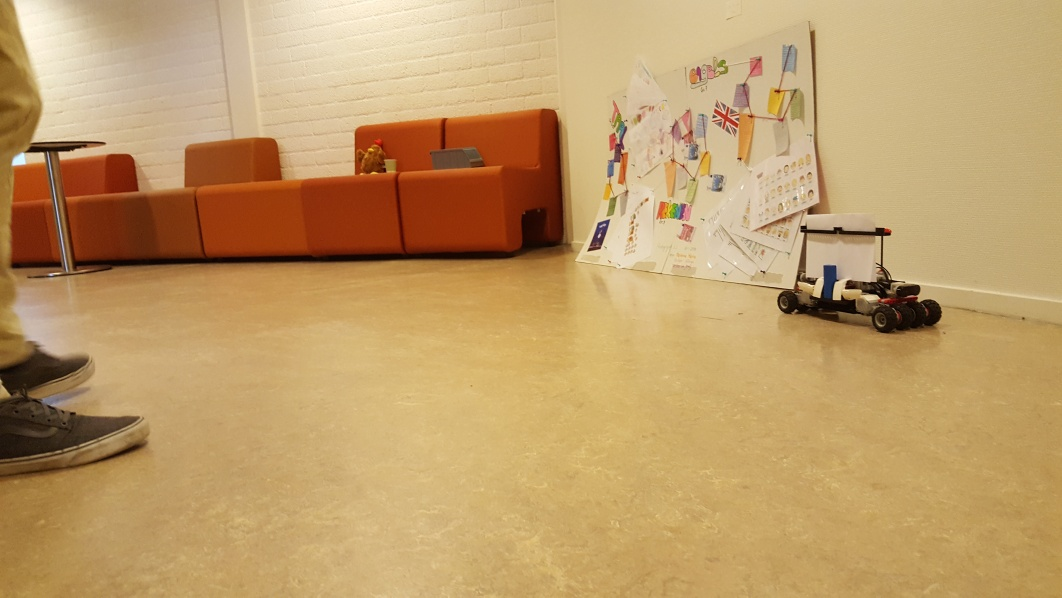beam: (819, 262, 838, 301)
chicken: (356, 137, 385, 177)
cup: (382, 157, 397, 177)
tray: (422, 146, 482, 171)
